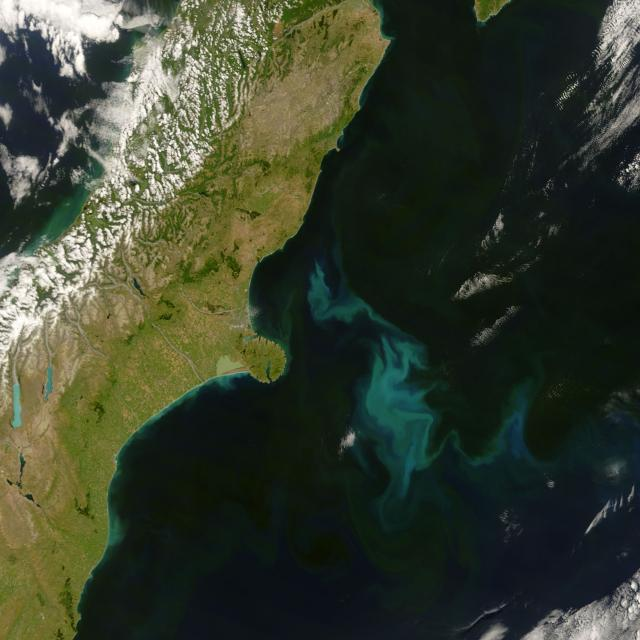oil spill: (309, 265, 436, 526), (507, 394, 532, 461), (604, 463, 620, 481)
